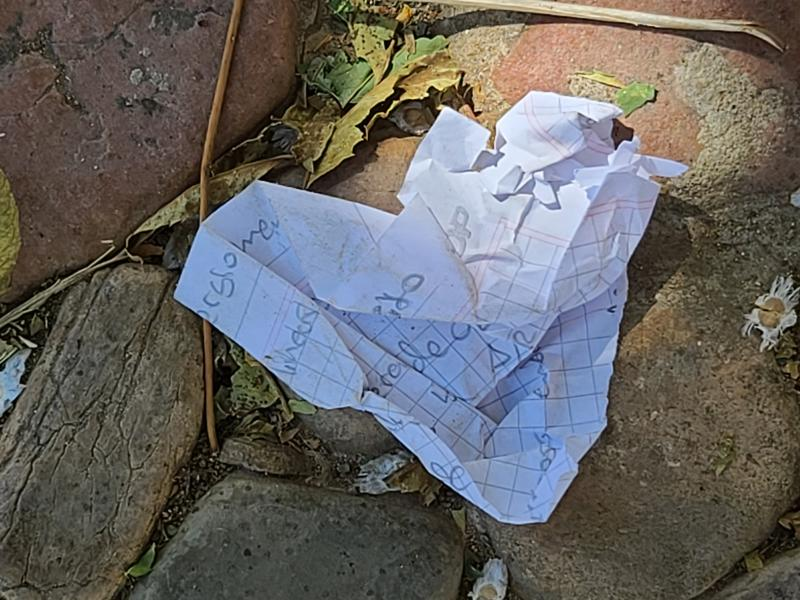papel: (172, 91, 687, 527)
